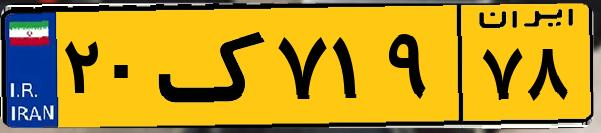0: (110, 28, 158, 98)
1: (330, 28, 385, 110)
2: (57, 26, 110, 100)
7: (270, 28, 330, 110), (475, 38, 525, 113)
8: (525, 38, 570, 115)
9: (385, 28, 445, 110)
ک: (158, 12, 270, 120)
